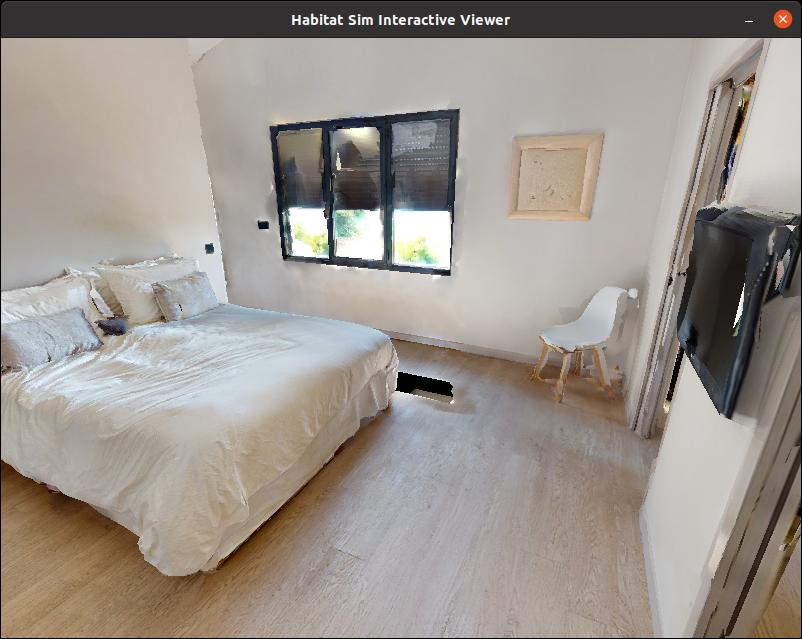bed: (0, 231, 409, 544)
chair: (515, 279, 642, 410)
